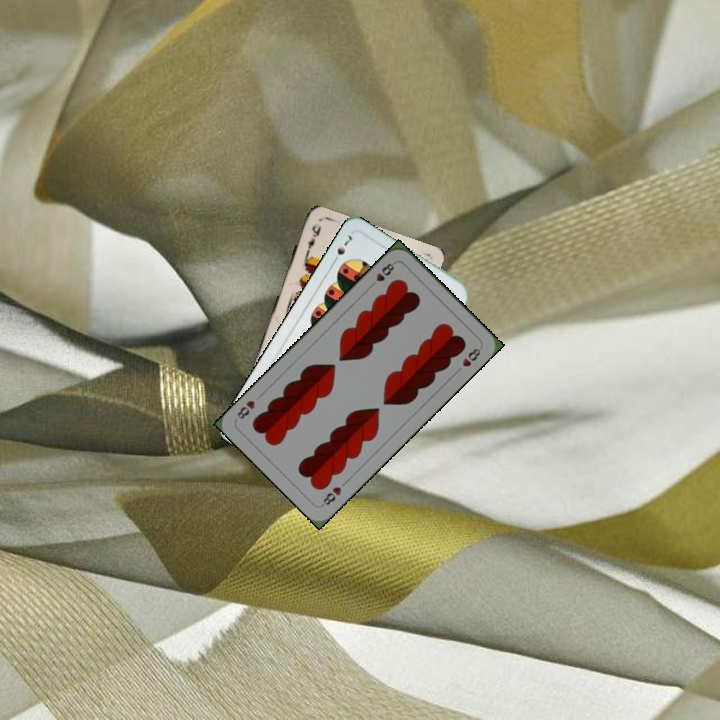E9: (301, 219, 324, 259)
H8: (366, 258, 398, 290), (318, 483, 344, 509)
S7: (329, 231, 355, 266)
